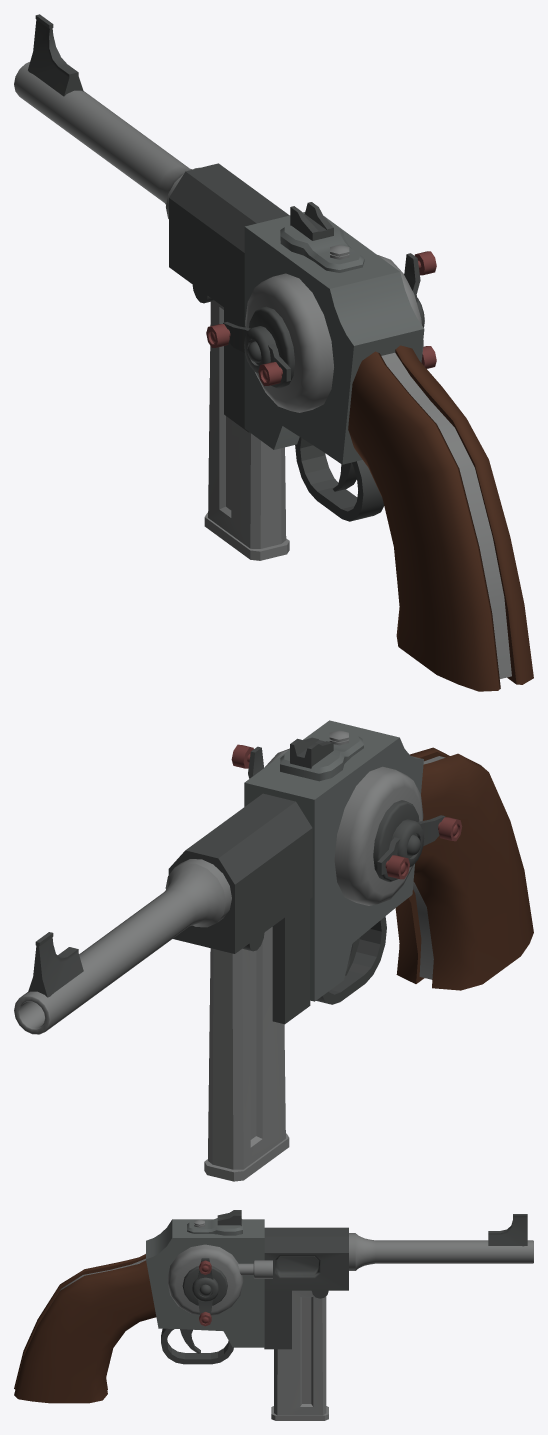
Rendered from Spinner proxy model.fbx.
The picture shows the model from 3 angles, top to bottom: view 1: azimuth 30°, elevation 25°; view 2: azimuth 150°, elevation 25°; view 3: azimuth 270°, elevation 25°; orthographic projection. The views are drawn at different scales.
Visible parts, largest first — view 1: polySurface9; view 2: polySurface9; view 3: polySurface9.
Boxes of the visible parts, x1=… form: polySurface9: x1=14, y1=14, x2=533, y2=691; polySurface9: x1=14, y1=720, x2=533, y2=1181; polySurface9: x1=14, y1=1210, x2=533, y2=1420.
Size of the model in its own units: 9.65 by 17.83 by 41.47.
